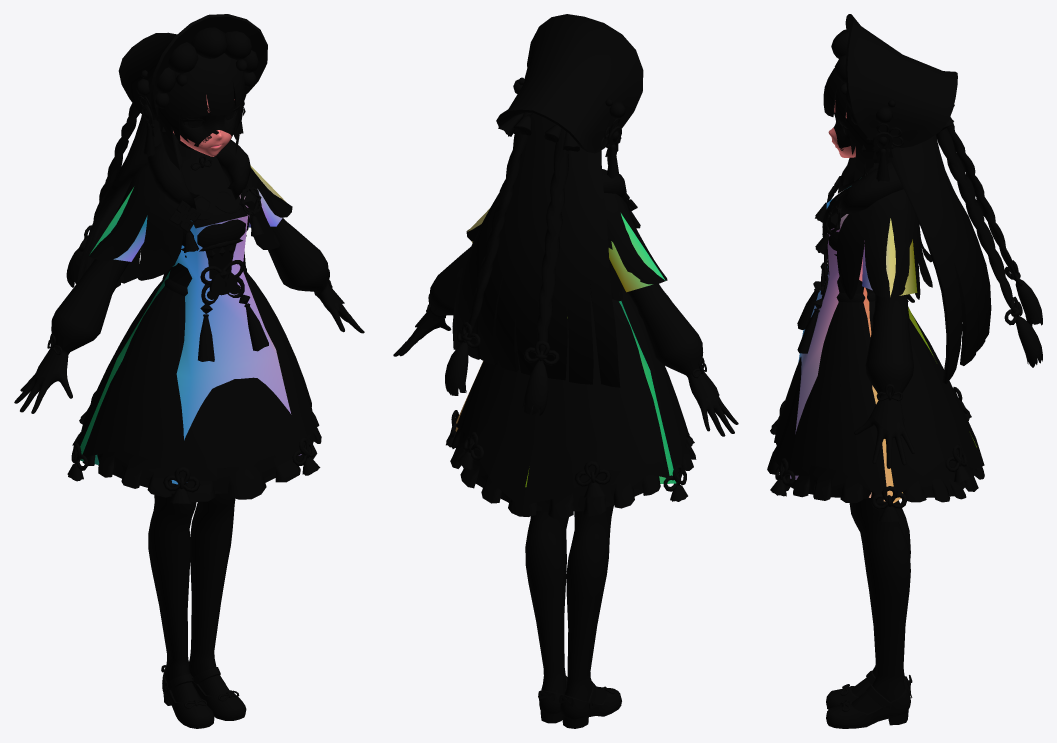
Rendered from Avatar_Girl_Pole_Yunjin_Model (merge).fbx.
The picture shows the model from 3 angles, left to right: view 1: azimuth 30°, elevation 25°; view 2: azimuth 150°, elevation 25°; view 3: azimuth 270°, elevation 25°; orthographic projection.
Visible parts, largest first — view 1: Body, EffectMesh, Face_Eye, Face; view 2: Body, EffectMesh; view 3: Body, EffectMesh.
Boxes of the visible parts, x1=… form: Body: x1=14, y1=14, x2=364, y2=728; EffectMesh: x1=80, y1=165, x2=301, y2=484; Face_Eye: x1=179, y1=100, x2=240, y2=146; Face: x1=173, y1=95, x2=234, y2=156; Body: x1=393, y1=14, x2=738, y2=728; EffectMesh: x1=455, y1=208, x2=676, y2=487; Body: x1=767, y1=14, x2=1042, y2=728; EffectMesh: x1=790, y1=177, x2=976, y2=503.
Size of the model in its own units: 0.8295 by 1.63 by 0.5857.
